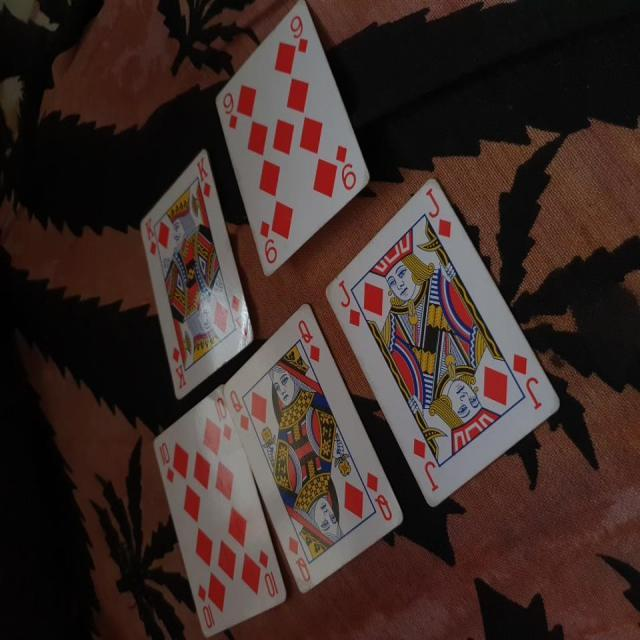10 of diamonds: (152, 380, 289, 640)
9 of diamonds: (210, 0, 372, 276)
jack of diamonds: (324, 175, 562, 508)
king of diamonds: (140, 148, 254, 402)
queen of diamonds: (222, 301, 407, 594)
